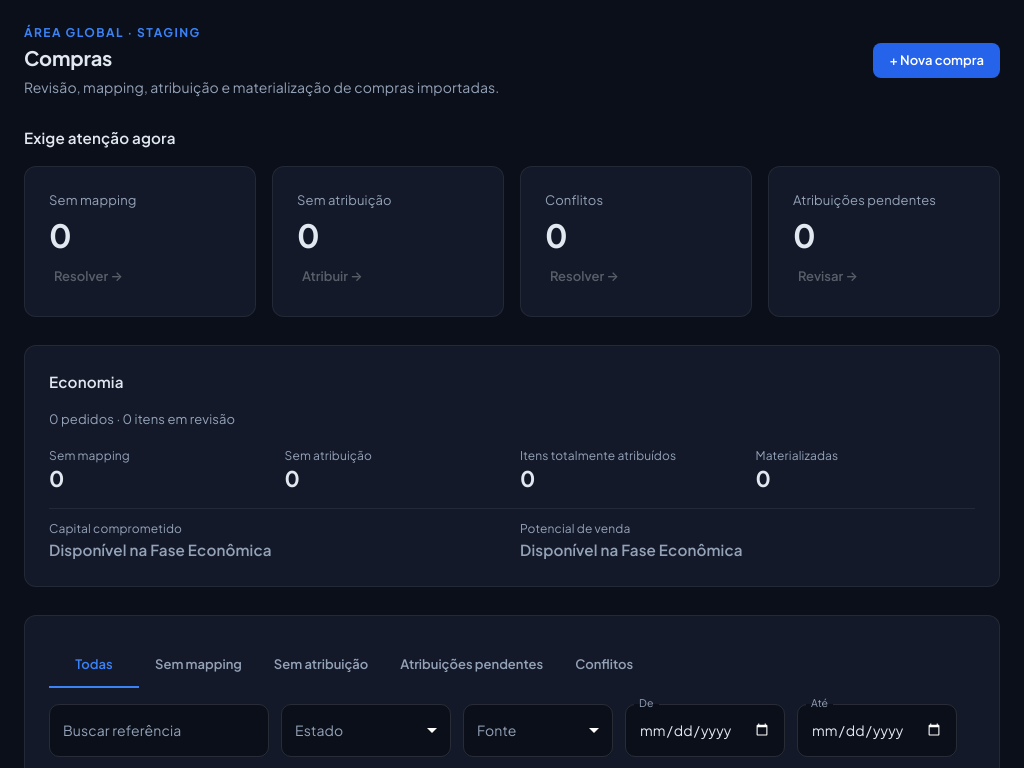
PurchaseQueuePage — botão + Nova compra › aparece com COMPRAS_IMPORTADAS_IMPORTAR e abre o drawer sem origens futuras visíveis
What coordinates should you click on to do the following:
click the button "+ Nova compra"
I would click on:
 (937, 61)
Its box is [874,44,1000,78].
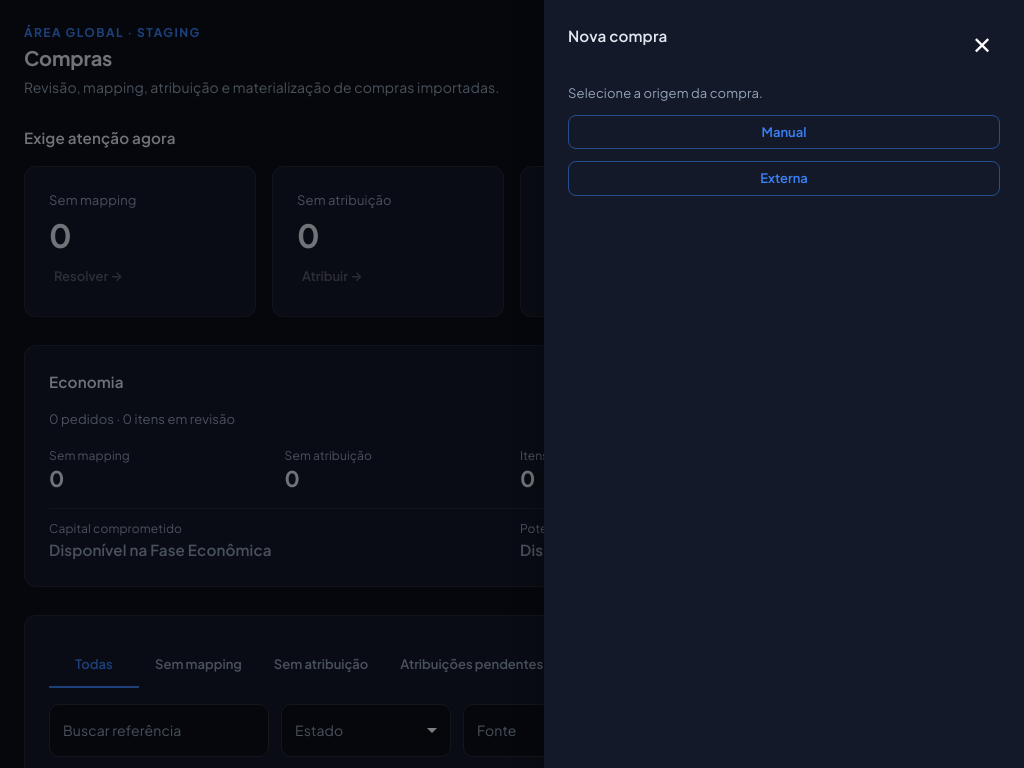
Result: the heading "Nova compra" is shown at [568,24,668,48]
Result: the button "Manual" is shown at [568,115,1000,149]
Result: the button "Externa" is shown at [568,161,1000,196]
